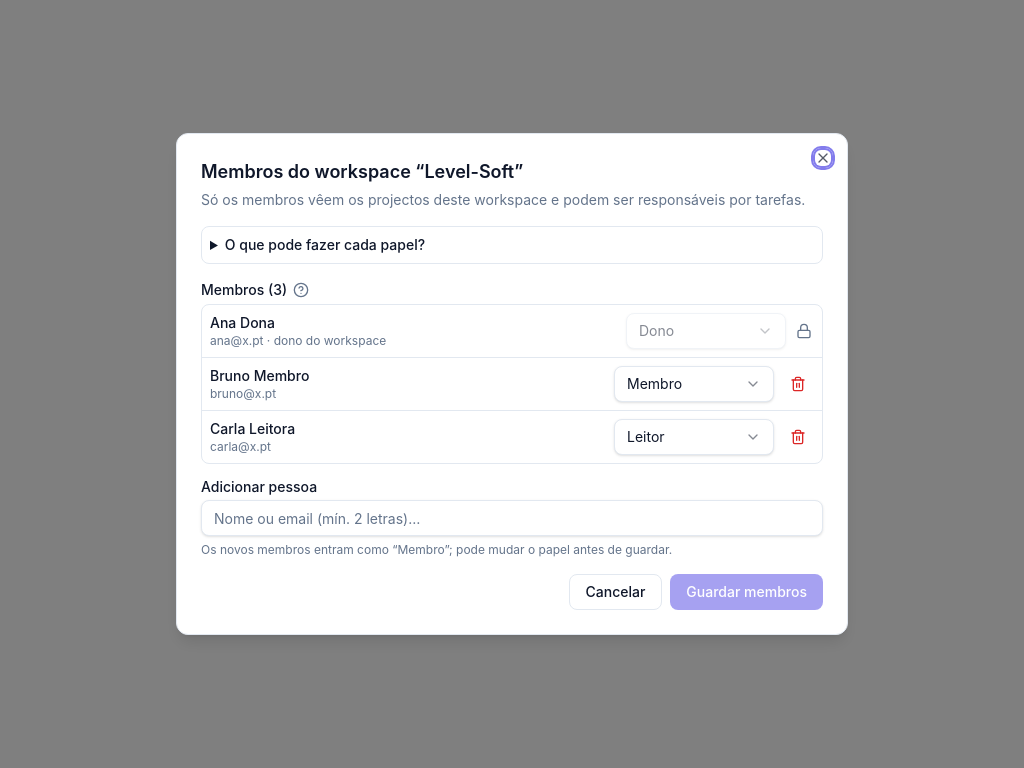
WorkspaceMembersDialog › um administrador pode atribuir o papel de dono
Click the dropdown named "Papel de Bruno Membro" at (694, 384), box [614, 366, 774, 402]
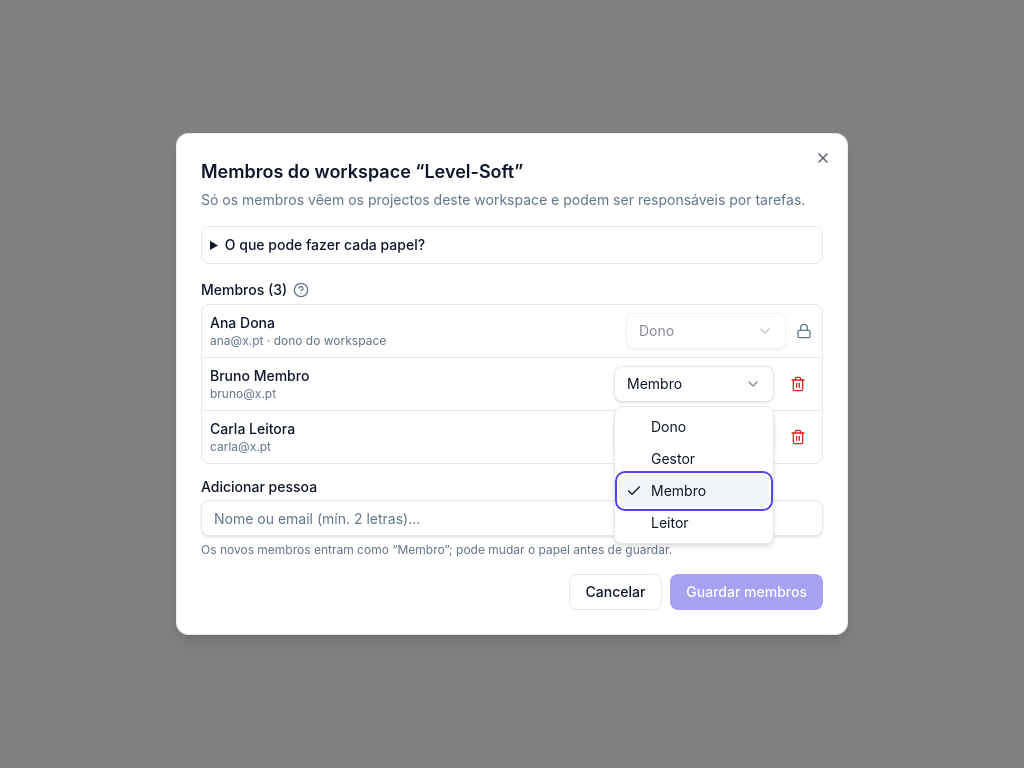
Expected: the option "Dono" is shown, [651, 418, 686, 435]
